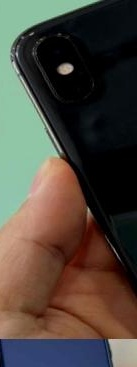scratch: (2, 20, 42, 49)
